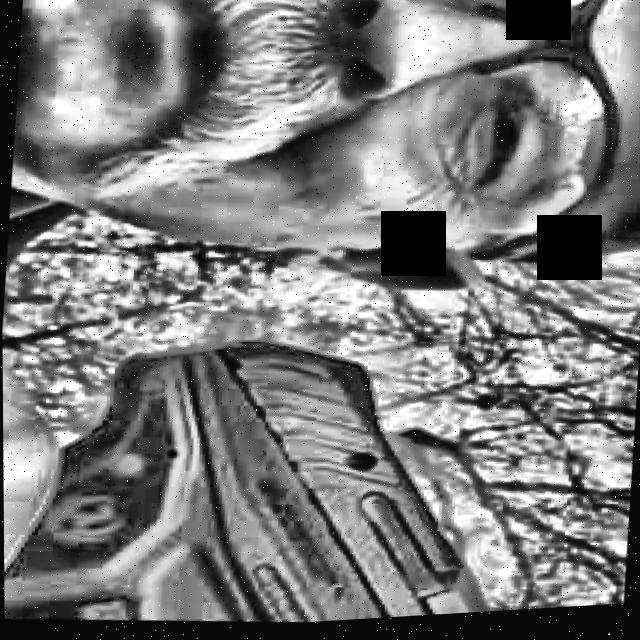Ruger: (2, 302, 640, 640)
